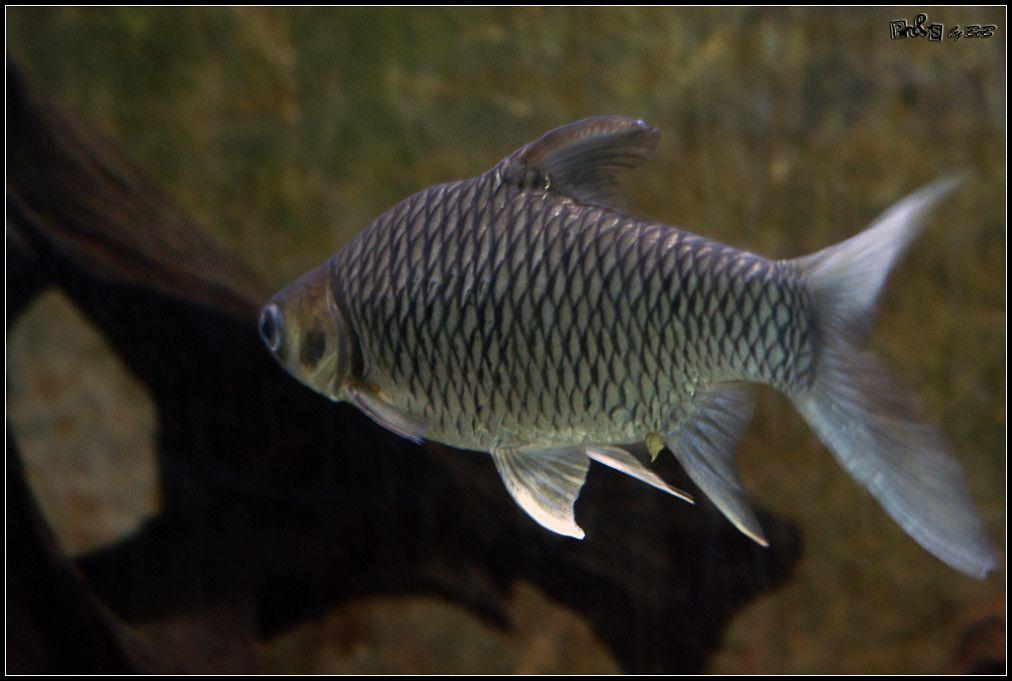Silver Barb: (257, 108, 997, 587)
